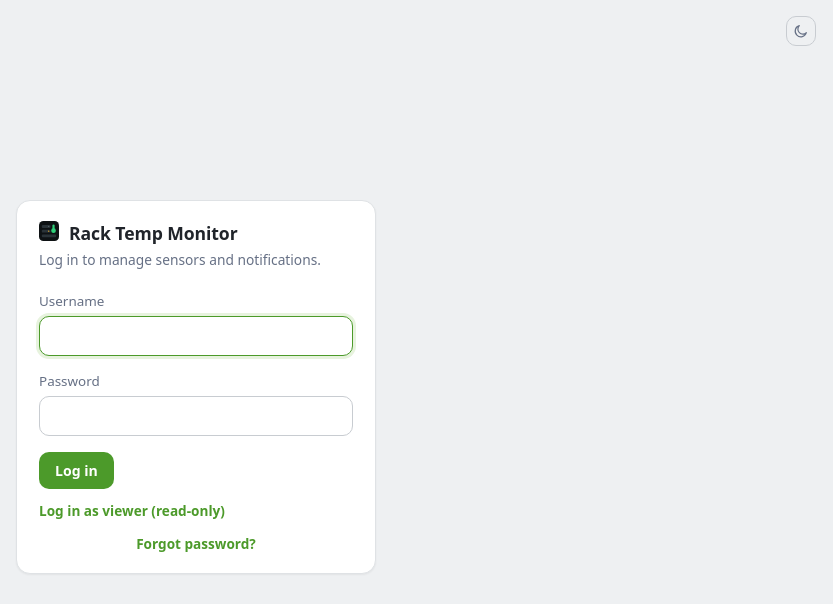
login › shows the server's error on wrong credentials
Step 1. Type "admin1" into the field labelled "Username" → (196, 336), box [39,316,353,356]
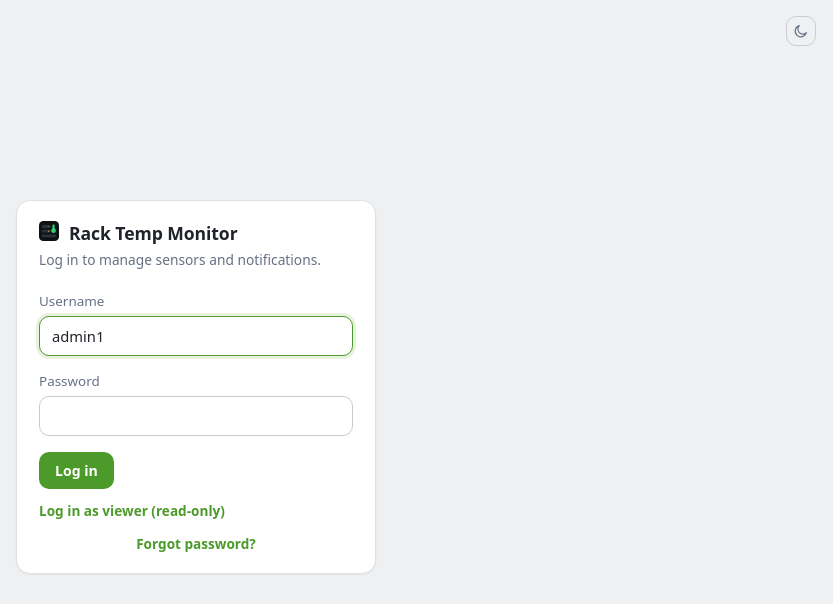
Step 2. Type "wrong-password" into the password field labelled "Password" → (196, 416), box [39,396,353,436]
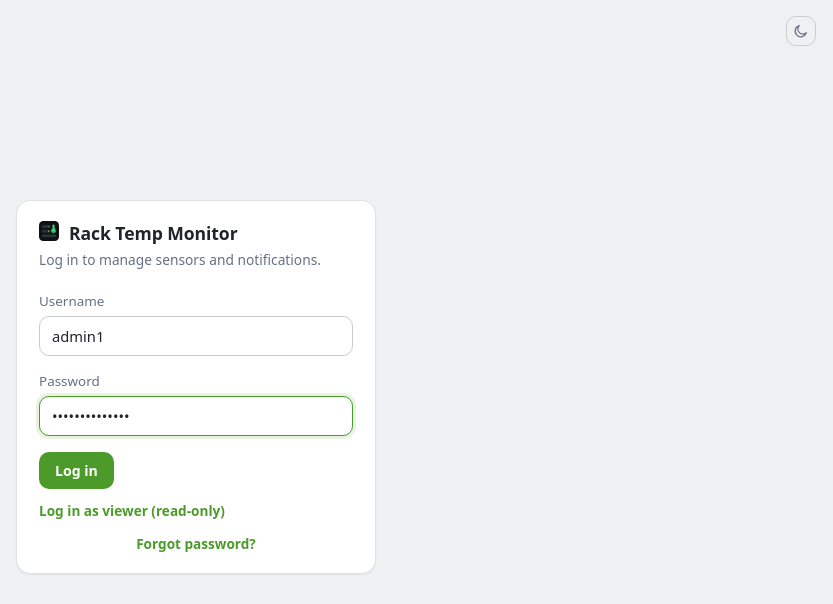
Step 3. Click the button "Log in" → (76, 471), box [39,452,114,489]
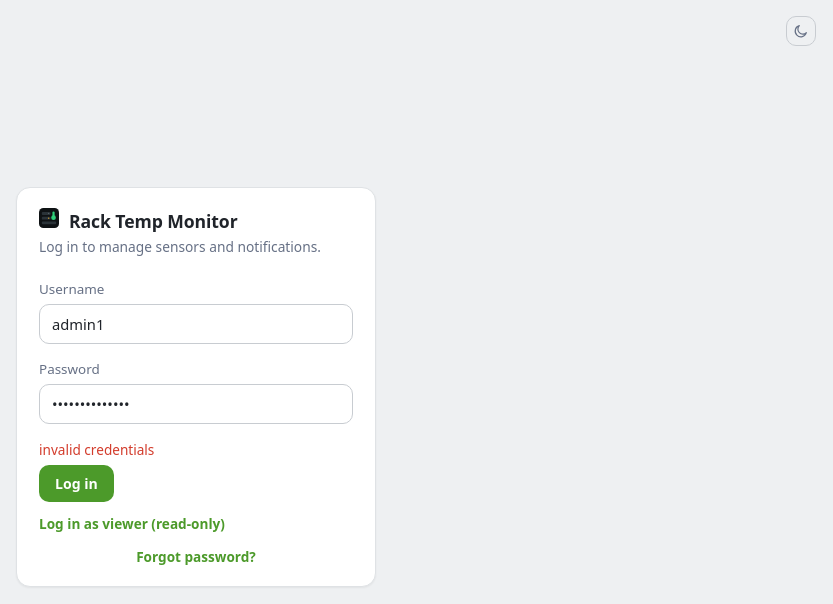
Now the text "invalid credentials" is shown, box [39,440,154,459]
